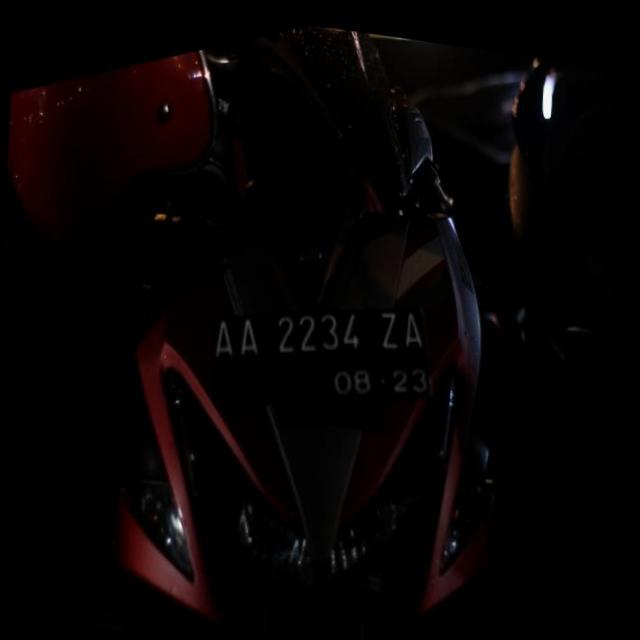plate: (203, 301, 434, 407)
